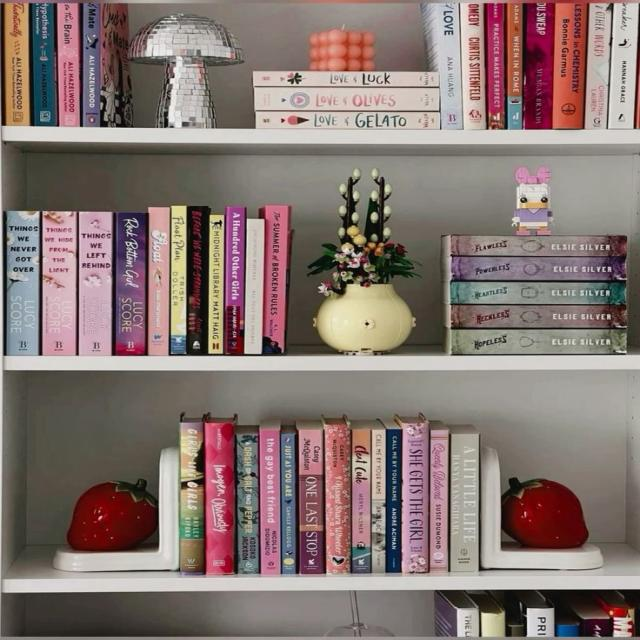book: (40, 211, 77, 355), (4, 211, 39, 355), (78, 213, 113, 355), (204, 418, 235, 575), (259, 205, 291, 355), (450, 254, 625, 281), (113, 212, 146, 355), (552, 3, 587, 129), (450, 304, 626, 329), (255, 87, 438, 111), (445, 330, 626, 354), (444, 235, 626, 257), (608, 3, 639, 129), (403, 422, 429, 572), (450, 282, 624, 304), (326, 424, 351, 576), (523, 4, 553, 129), (452, 434, 478, 573), (180, 417, 203, 573), (186, 206, 210, 355), (584, 3, 612, 129), (256, 110, 438, 129), (147, 207, 170, 355), (223, 207, 246, 355), (31, 3, 57, 126), (300, 429, 322, 574), (260, 430, 282, 574), (461, 4, 486, 129), (3, 3, 28, 125), (438, 2, 462, 128), (254, 71, 438, 87), (237, 435, 258, 572), (243, 218, 264, 354), (57, 3, 79, 126), (485, 3, 505, 129), (170, 206, 187, 354), (354, 429, 371, 572), (430, 430, 447, 573), (386, 429, 402, 572), (207, 212, 223, 354), (505, 3, 523, 129), (82, 3, 100, 127), (371, 430, 385, 572), (282, 433, 294, 573)
candle: (310, 29, 375, 70)
